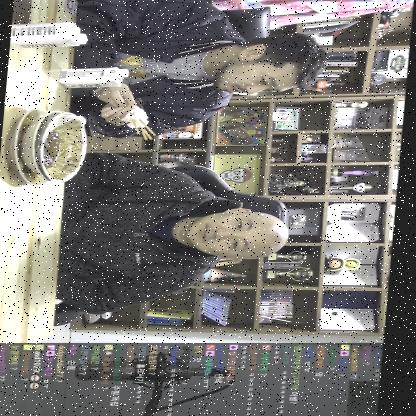streamer: (59, 153, 299, 315), (68, 0, 333, 138)
